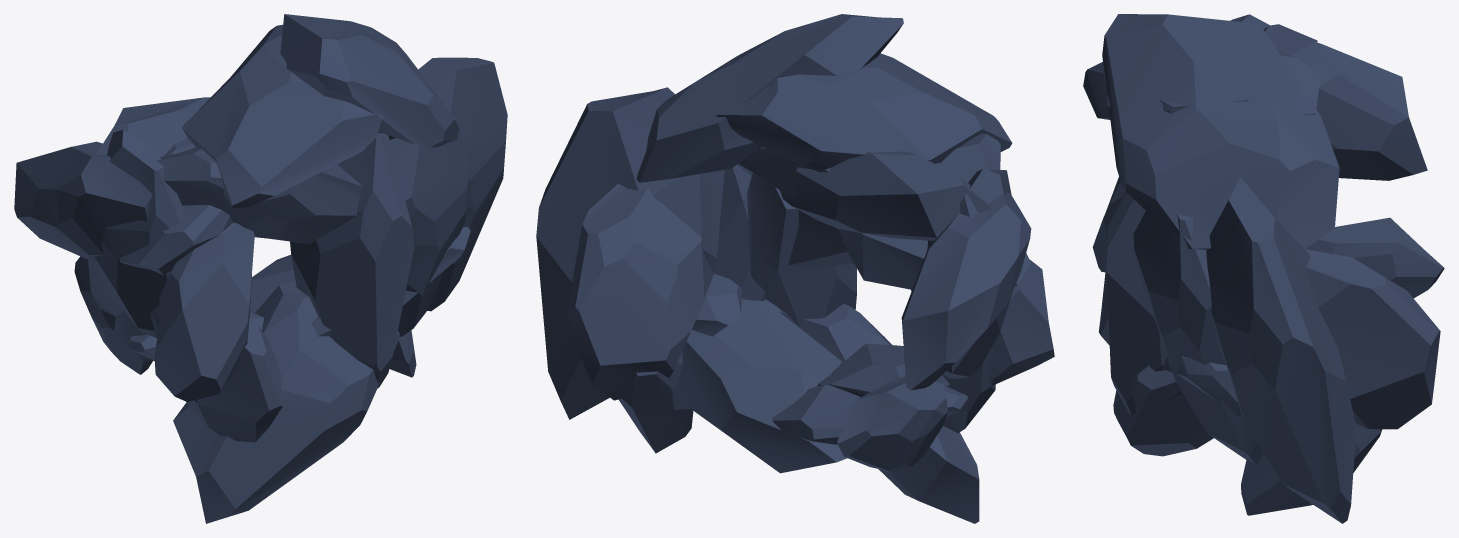
The model's file is Cave_Entrance_Rock.fbx.
3 renders of one model, left to right at view 1: azimuth 30°, elevation 25°; view 2: azimuth 150°, elevation 25°; view 3: azimuth 270°, elevation 25°, orthographic. The views are drawn at different scales.
Visible parts, largest first — view 1: Stone__56_, Stone__61_, Stone__50_, Stone__54_, Stone__39_, Stone__62_, Stone__60_, Stone__51_, Stone__48_, Stone__19_, Stone__55_, Stone__16_ (+4 smaller); view 2: Stone__10_, Stone__60_, Stone__61_, Stone__35_, Stone__39_, Stone__62_, Stone__57_, Stone__50_, Stone__56_, Stone__16_, Stone__54_, Stone__51_ (+9 smaller); view 3: Stone__39_, Stone__60_, Stone__10_, Stone__48_, Stone__62_, Stone__50_, Stone__56_, Stone__16_, Stone__9_, Stone__61_, Stone__35_, Stone__57_ (+2 smaller).
Part boxes in pixels (bbox=[...]): Stone__56_: bbox=[173, 280, 400, 523]; Stone__61_: bbox=[182, 24, 404, 207]; Stone__50_: bbox=[290, 133, 414, 388]; Stone__54_: bbox=[154, 222, 254, 401]; Stone__39_: bbox=[280, 14, 461, 147]; Stone__62_: bbox=[14, 141, 152, 260]; Stone__60_: bbox=[418, 57, 507, 311]; Stone__51_: bbox=[156, 147, 363, 244]; Stone__48_: bbox=[389, 117, 468, 336]; Stone__19_: bbox=[94, 129, 184, 337]; Stone__55_: bbox=[150, 305, 282, 442]; Stone__16_: bbox=[74, 256, 152, 374]; Stone__10_: bbox=[567, 183, 713, 400]; Stone__60_: bbox=[536, 87, 724, 419]; Stone__61_: bbox=[713, 53, 1012, 172]; Stone__35_: bbox=[673, 299, 847, 473]; Stone__39_: bbox=[636, 14, 903, 182]; Stone__62_: bbox=[901, 193, 1031, 390]; Stone__57_: bbox=[780, 151, 991, 240]; Stone__50_: bbox=[747, 173, 856, 326]; Stone__56_: bbox=[779, 304, 979, 523]; Stone__16_: bbox=[837, 376, 947, 472]; Stone__54_: bbox=[911, 259, 1054, 385]; Stone__51_: bbox=[788, 133, 1000, 266]; Stone__39_: bbox=[1102, 14, 1339, 249]; Stone__60_: bbox=[1206, 177, 1356, 523]; Stone__10_: bbox=[1304, 249, 1440, 429]; Stone__48_: bbox=[1133, 211, 1263, 464]; Stone__62_: bbox=[1312, 42, 1427, 180]; Stone__50_: bbox=[1106, 191, 1182, 414]; Stone__56_: bbox=[1113, 365, 1213, 456]; Stone__16_: bbox=[1305, 217, 1444, 298]; Stone__9_: bbox=[1241, 423, 1382, 515]; Stone__61_: bbox=[1083, 48, 1320, 119]; Stone__35_: bbox=[1163, 355, 1242, 415]; Stone__57_: bbox=[1264, 24, 1317, 69].
Bounding box in the file's own units: 12561 × 12226 × 8032.
